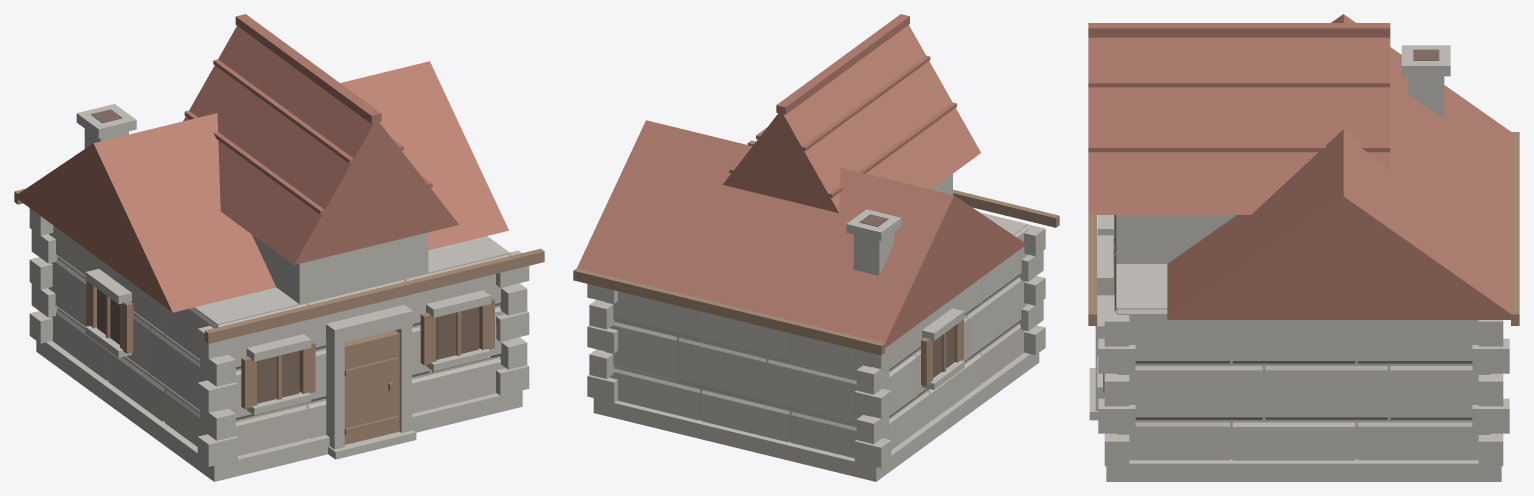
The model's file is stone-house-cross-gable.glb.
The picture shows the model from 3 angles, left to right: view 1: azimuth 30°, elevation 25°; view 2: azimuth 150°, elevation 25°; view 3: azimuth 270°, elevation 25°; orthographic projection. The views are drawn at different scales.
Parts seen in each view (by area): view 1: stone-house-cross-gable_roof, stone-house-cross-gable_stone, stone-house-cross-gable_wood, stone-house-cross-gable_door, stone-house-cross-gable_window; view 2: stone-house-cross-gable_roof, stone-house-cross-gable_stone, stone-house-cross-gable_wood, stone-house-cross-gable_window; view 3: stone-house-cross-gable_roof, stone-house-cross-gable_stone, stone-house-cross-gable_wood.
Boxes of the visible parts, left/top/right/bottom form: stone-house-cross-gable_roof: left=14, top=14, right=508, bottom=312; stone-house-cross-gable_stone: left=29, top=104, right=529, bottom=481; stone-house-cross-gable_wood: left=14, top=188, right=544, bottom=409; stone-house-cross-gable_door: left=344, top=330, right=399, bottom=444; stone-house-cross-gable_window: left=91, top=109, right=479, bottom=403; stone-house-cross-gable_roof: left=577, top=14, right=1026, bottom=349; stone-house-cross-gable_stone: left=587, top=174, right=1045, bottom=481; stone-house-cross-gable_wood: left=573, top=140, right=1059, bottom=386; stone-house-cross-gable_window: left=859, top=214, right=953, bottom=377; stone-house-cross-gable_roof: left=1088, top=14, right=1518, bottom=319; stone-house-cross-gable_stone: left=1089, top=45, right=1509, bottom=481; stone-house-cross-gable_wood: left=1088, top=132, right=1519, bottom=392.
Size of the model in its own units: 2 by 1.91 by 2.
